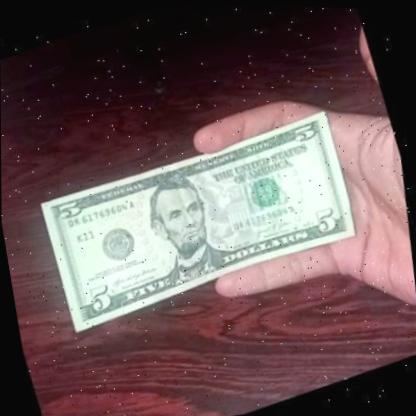five-front: (23, 92, 381, 343)
